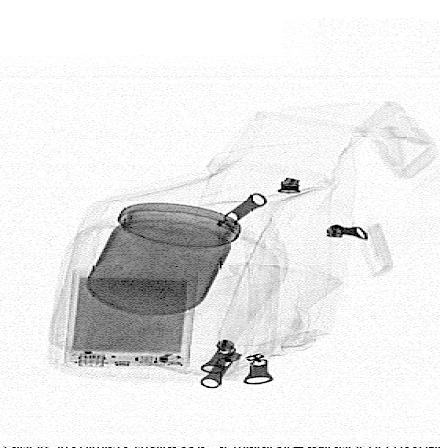Powerbank: (59, 267, 192, 371)
